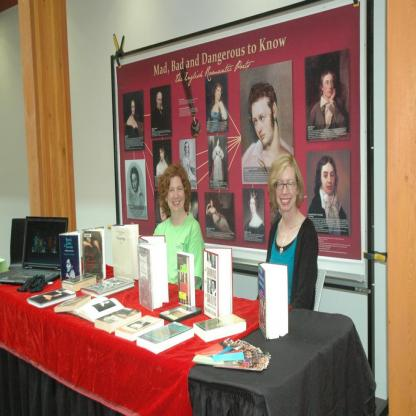board: (9, 216, 67, 287), (0, 218, 25, 280)
